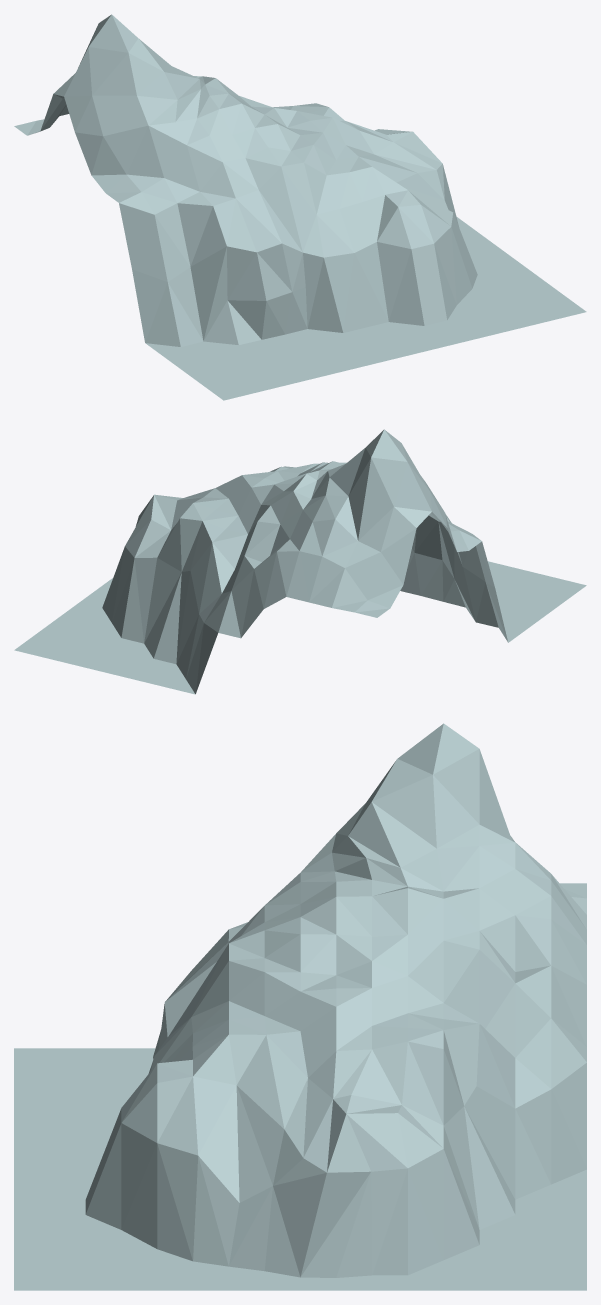
The model's file is glacier.fbx.
3 renders of one model, top to bottom at view 1: azimuth 30°, elevation 25°; view 2: azimuth 150°, elevation 25°; view 3: azimuth 270°, elevation 25°, orthographic. The views are drawn at different scales.
Parts seen in each view (by area): view 1: Plane; view 2: Plane; view 3: Plane.
Part boxes in pixels (<box>): Plane: <box>14,14,586,400</box>; Plane: <box>14,429,586,694</box>; Plane: <box>14,723,586,1290</box>.
Size of the model in its own units: 1176 by 795 by 1161.
